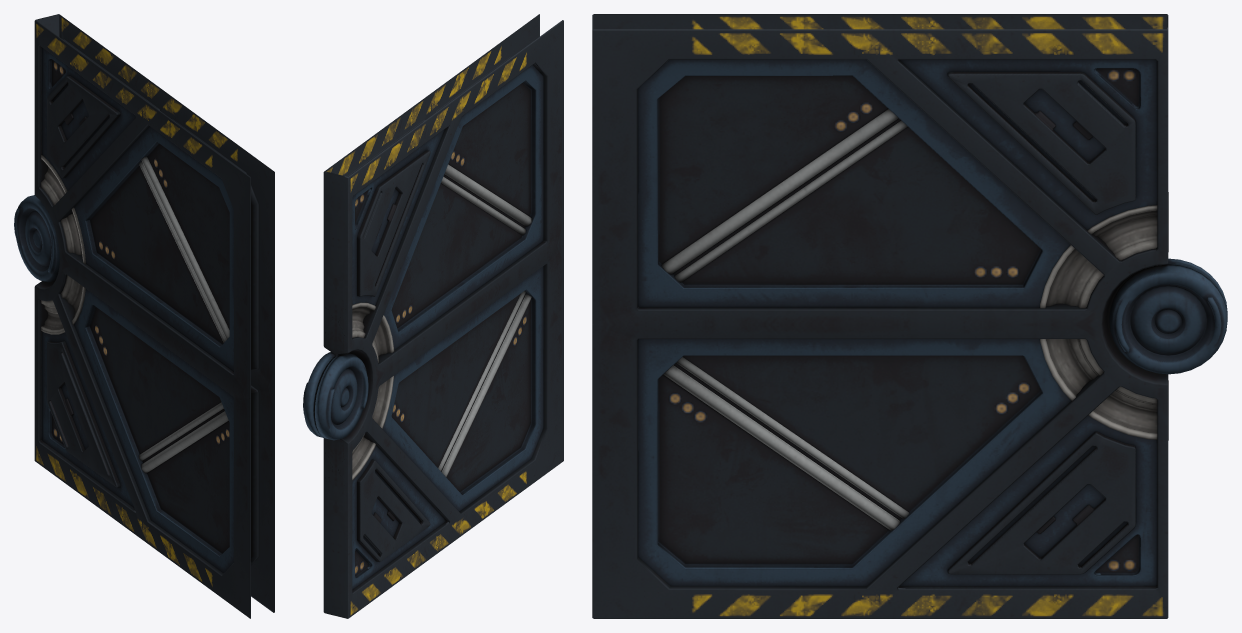
File: BG_CM_BD_Gate_R.fbx
3 views of the same model, side by side, from view 1: azimuth 30°, elevation 25°; view 2: azimuth 150°, elevation 25°; view 3: azimuth 270°, elevation 25° (orthographic). The views are drawn at different scales.
Parts seen in each view (by area): view 1: gate_door_L_low; view 2: gate_door_L_low; view 3: gate_door_L_low.
Boxes of the visible parts, x1,y1,x2,y2 form: gate_door_L_low: (14, 14, 274, 618); gate_door_L_low: (303, 14, 563, 618); gate_door_L_low: (592, 14, 1227, 618).
Size of the model in its own units: 22.16 by 334 by 326.
